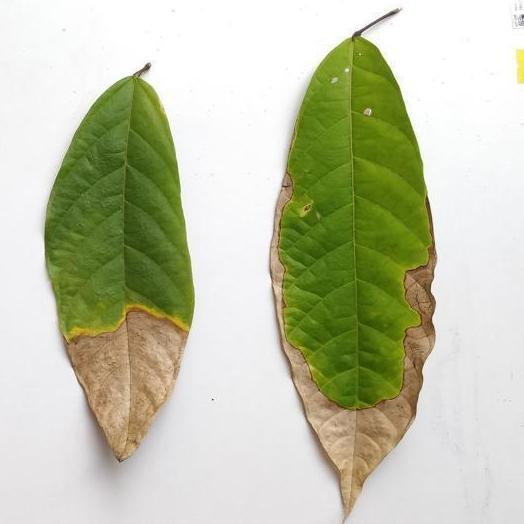Potassium: (271, 9, 435, 514), (45, 63, 194, 460)
